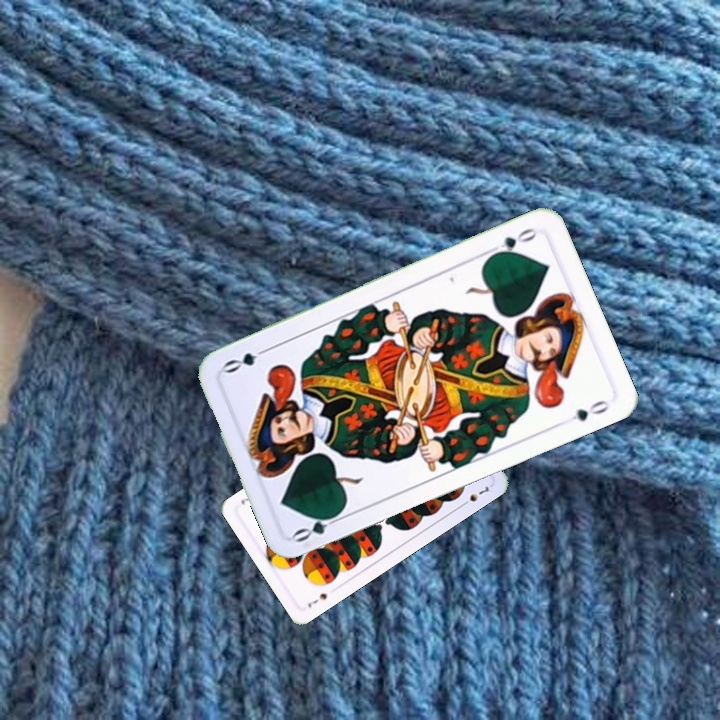GO: (289, 507, 347, 545), (484, 224, 541, 260)
S7: (304, 589, 330, 610)
